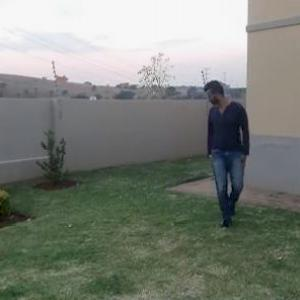follow: (205, 73, 259, 234)
